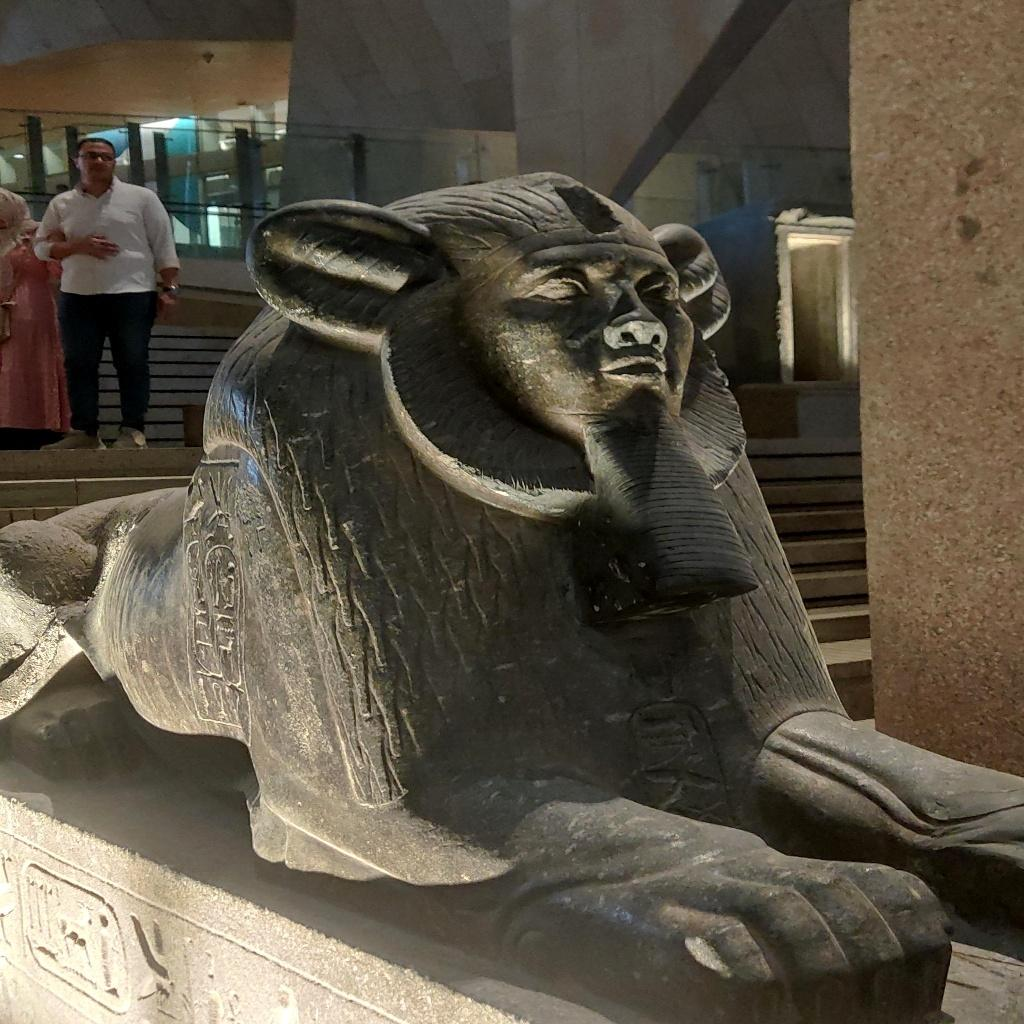Sphinx of Amenmhat III: (4, 168, 1020, 1020)
